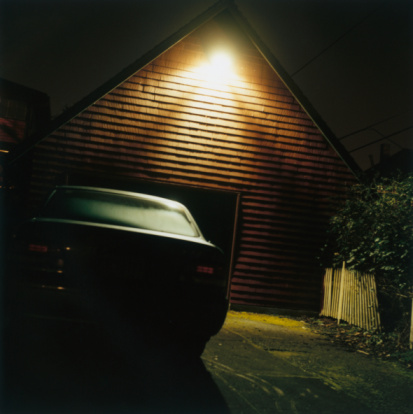car: (13, 181, 235, 371)
